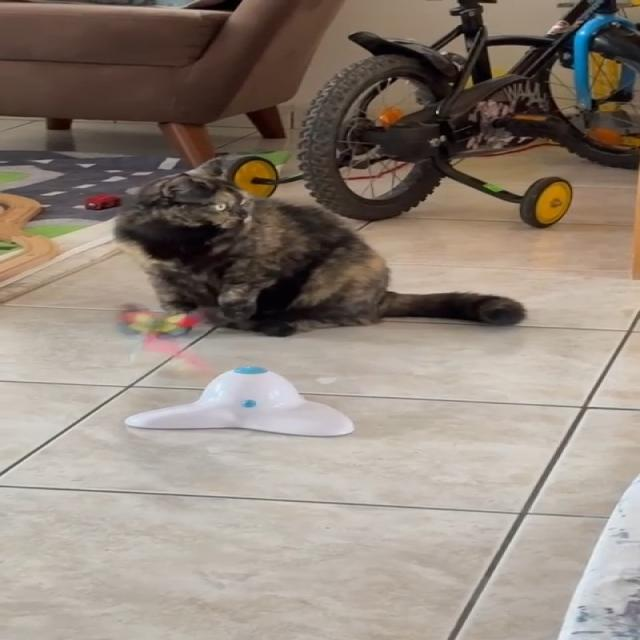authorized: (110, 156, 526, 338)
